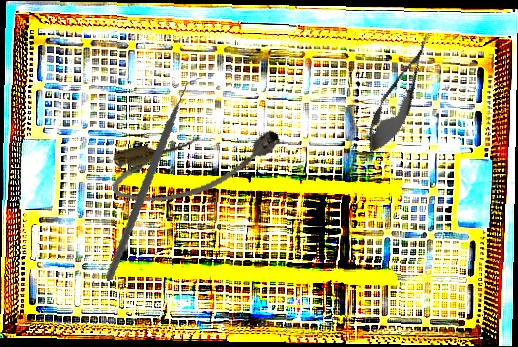Cannula: (106, 120, 287, 210)
Chopper: (75, 76, 237, 282)
Micro Scissor: (357, 27, 444, 161)
